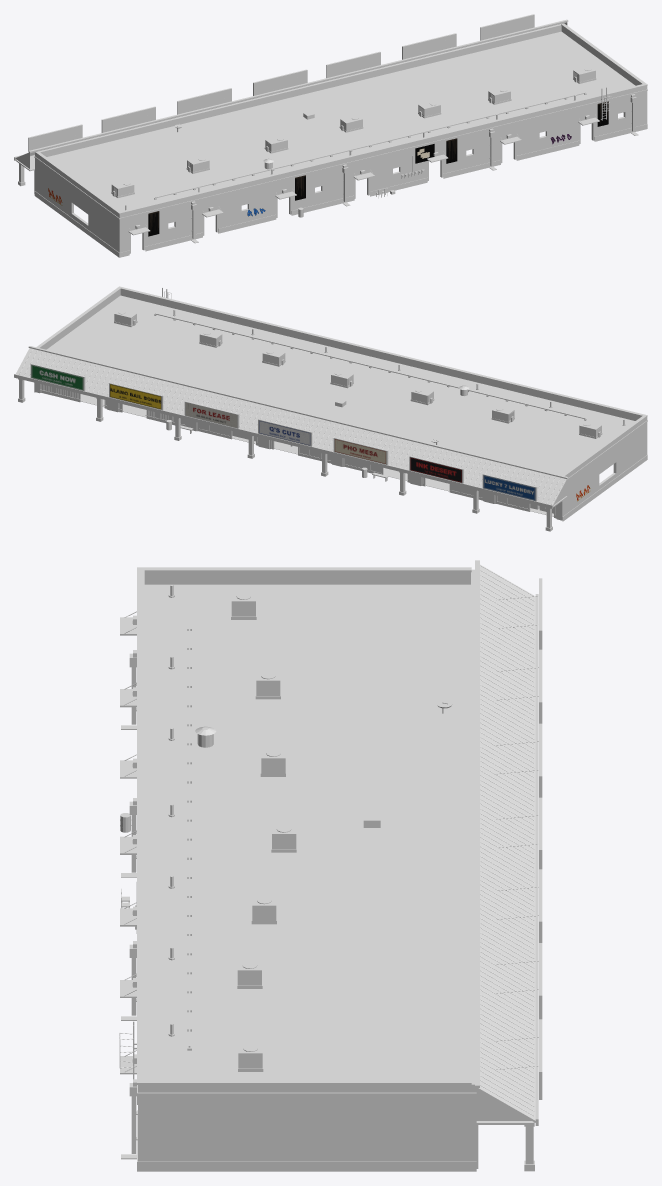
The model's file is WG01_Plaza.fbx.
The picture shows the model from 3 angles, top to bottom: view 1: azimuth 30°, elevation 25°; view 2: azimuth 150°, elevation 25°; view 3: azimuth 270°, elevation 25°; orthographic projection. The views are drawn at different scales.
Parts seen in each view (by area): view 1: WG01_Plaza.Roof__Concrete_8E8A84, WG01_Plaza.Rear__Plaster_D2C2A0, WG01_Plaza.Signs__Metal_2B2B2D, WG01_Plaza.Front__Plaster_D9C7A3, WG01_Plaza.Rear__Metal_8F8C84, WG01_Plaza.SideW__Plaster_D2C2A0, WG01_Plaza.Rear__Plaster_9C8466, WG01_Plaza.Roof__Metal_D6D3C8, WG01_Plaza.Mansard__Metal_9C998F, WG01_Plaza.Rear__Plaster_CBB993, WG01_Plaza.Roof__Metal_9EA2A3, WG01_Plaza.Mansard__Metal_B8B6AE (+4 smaller); view 2: WG01_Plaza.Roof__Concrete_8E8A84, WG01_Plaza.Mansard__Metal_B8B6AE, WG01_Plaza.Rear__Plaster_D2C2A0, WG01_Plaza.SideW__Plaster_D2C2A0, WG01_Plaza.Rear__Metal_8F8C84, WG01_Plaza.Mansard__Metal_6F6B62, WG01_Plaza.Roof__Metal_D6D3C8, WG01_Plaza.Mansard__Metal_A8A69E, WG01_Plaza.Signs__Metal_2B2B2D, WG01_Plaza.Mansard__Metal_9C998F, WG01_Plaza.Interior__Concrete_6E675E, WG01_Plaza.Roof__Metal_9EA2A3 (+12 smaller); view 3: WG01_Plaza.Roof__Concrete_8E8A84, WG01_Plaza.Mansard__Metal_B8B6AE, WG01_Plaza.SideE__Plaster_D2C2A0, WG01_Plaza.Rear__Metal_8F8C84, WG01_Plaza.Mansard__Metal_A8A69E, WG01_Plaza.Roof__Metal_D6D3C8, WG01_Plaza.SideW__Plaster_D2C2A0, WG01_Plaza.Rear__Plaster_9C8466, WG01_Plaza.Mansard__Metal_9C998F, WG01_Plaza.Front__Plaster_D9C7A3, WG01_Plaza.Mansard__Metal_6F6B62, WG01_Plaza.Signs__Metal_2B2B2D (+4 smaller).
Part boxes in pixels (bbox=[...]): WG01_Plaza.Roof__Concrete_8E8A84: bbox=[47, 31, 635, 211]; WG01_Plaza.Rear__Plaster_D2C2A0: bbox=[118, 86, 647, 253]; WG01_Plaza.Signs__Metal_2B2B2D: bbox=[28, 14, 534, 151]; WG01_Plaza.Front__Plaster_D9C7A3: bbox=[35, 23, 561, 191]; WG01_Plaza.Rear__Metal_8F8C84: bbox=[35, 23, 647, 238]; WG01_Plaza.SideW__Plaster_D2C2A0: bbox=[36, 154, 117, 251]; WG01_Plaza.Rear__Plaster_9C8466: bbox=[34, 124, 647, 257]; WG01_Plaza.Roof__Metal_D6D3C8: bbox=[111, 66, 595, 196]; WG01_Plaza.Mansard__Metal_9C998F: bbox=[28, 19, 568, 152]; WG01_Plaza.Rear__Plaster_CBB993: bbox=[34, 89, 647, 219]; WG01_Plaza.Roof__Metal_9EA2A3: bbox=[112, 76, 585, 210]; WG01_Plaza.Mansard__Metal_B8B6AE: bbox=[15, 22, 567, 168]; WG01_Plaza.Roof__Concrete_8E8A84: bbox=[46, 295, 635, 475]; WG01_Plaza.Mansard__Metal_B8B6AE: bbox=[16, 348, 567, 505]; WG01_Plaza.Rear__Plaster_D2C2A0: bbox=[120, 289, 647, 455]; WG01_Plaza.SideW__Plaster_D2C2A0: bbox=[564, 418, 645, 515]; WG01_Plaza.Rear__Metal_8F8C84: bbox=[36, 286, 647, 476]; WG01_Plaza.Mansard__Metal_6F6B62: bbox=[14, 374, 552, 508]; WG01_Plaza.Roof__Metal_D6D3C8: bbox=[114, 309, 601, 437]; WG01_Plaza.Mansard__Metal_A8A69E: bbox=[19, 350, 564, 504]; WG01_Plaza.Signs__Metal_2B2B2D: bbox=[30, 363, 537, 501]; WG01_Plaza.Mansard__Metal_9C998F: bbox=[28, 346, 568, 478]; WG01_Plaza.Interior__Concrete_6E675E: bbox=[80, 394, 553, 516]; WG01_Plaza.Roof__Metal_9EA2A3: bbox=[133, 309, 624, 437]; WG01_Plaza.Roof__Concrete_8E8A84: bbox=[144, 584, 470, 1079]; WG01_Plaza.Mansard__Metal_B8B6AE: bbox=[476, 564, 535, 1122]; WG01_Plaza.SideE__Plaster_D2C2A0: bbox=[143, 1085, 470, 1161]; WG01_Plaza.Rear__Metal_8F8C84: bbox=[129, 567, 471, 1153]; WG01_Plaza.Mansard__Metal_A8A69E: bbox=[480, 565, 534, 1115]; WG01_Plaza.Roof__Metal_D6D3C8: bbox=[231, 585, 296, 1068]; WG01_Plaza.SideW__Plaster_D2C2A0: bbox=[144, 572, 470, 584]; WG01_Plaza.Rear__Plaster_9C8466: bbox=[137, 1095, 476, 1171]; WG01_Plaza.Mansard__Metal_9C998F: bbox=[475, 560, 479, 1087]; WG01_Plaza.Front__Plaster_D9C7A3: bbox=[471, 569, 476, 1161]; WG01_Plaza.Mansard__Metal_6F6B62: bbox=[535, 594, 538, 1125]; WG01_Plaza.Signs__Metal_2B2B2D: bbox=[539, 578, 542, 1099].
Size of the model in its own units: 220 by 20.52 by 74.93.
69 materials, 14 textured.
